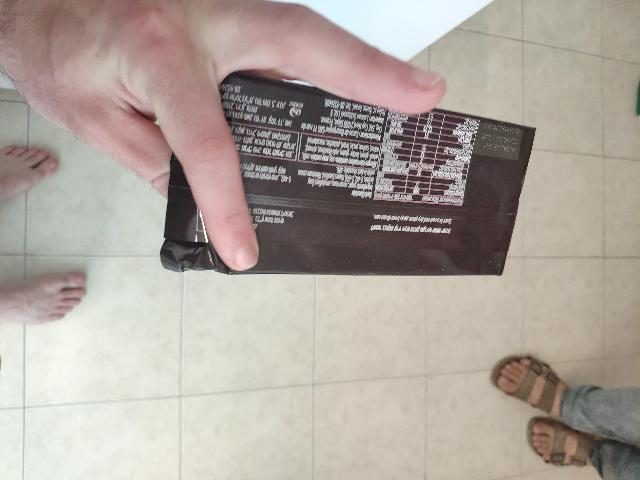chocolate: (189, 97, 441, 480)
